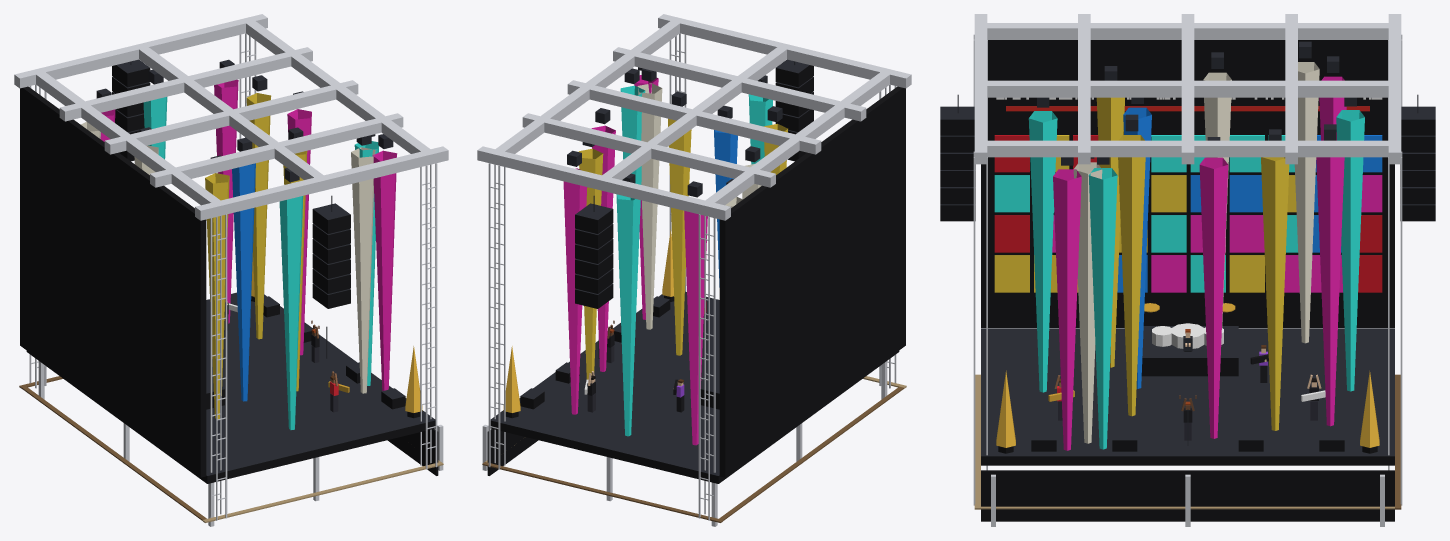
File: escenario_concierto.obj
3 views of the same model, side by side, from view 1: azimuth 30°, elevation 25°; view 2: azimuth 150°, elevation 25°; view 3: azimuth 270°, elevation 25° (orthographic). The views are drawn at different scales.
Visible parts, largest first — view 1: escenario_concierto; view 2: escenario_concierto; view 3: escenario_concierto.
Part boxes in pixels (x1,y1,x2,y2): escenario_concierto: (14, 14, 448, 526); escenario_concierto: (477, 14, 911, 526); escenario_concierto: (940, 14, 1435, 526).
Size of the model in its own units: 13.1 by 16.3 by 19.6.
